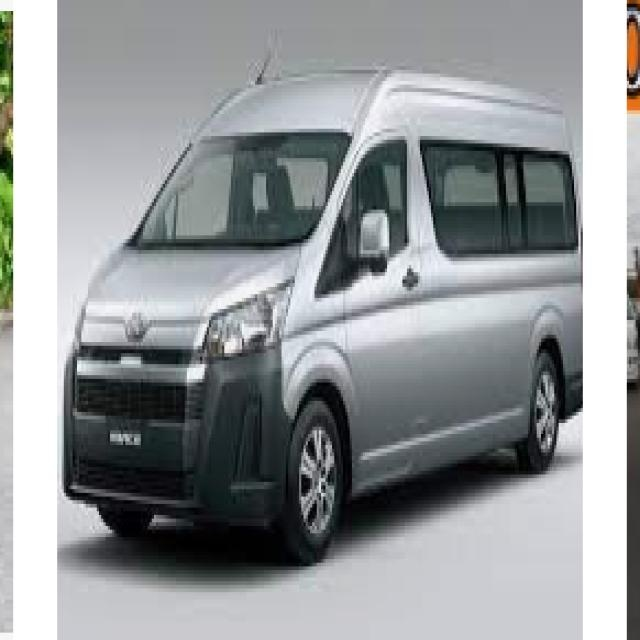Van: (55, 59, 583, 563)
